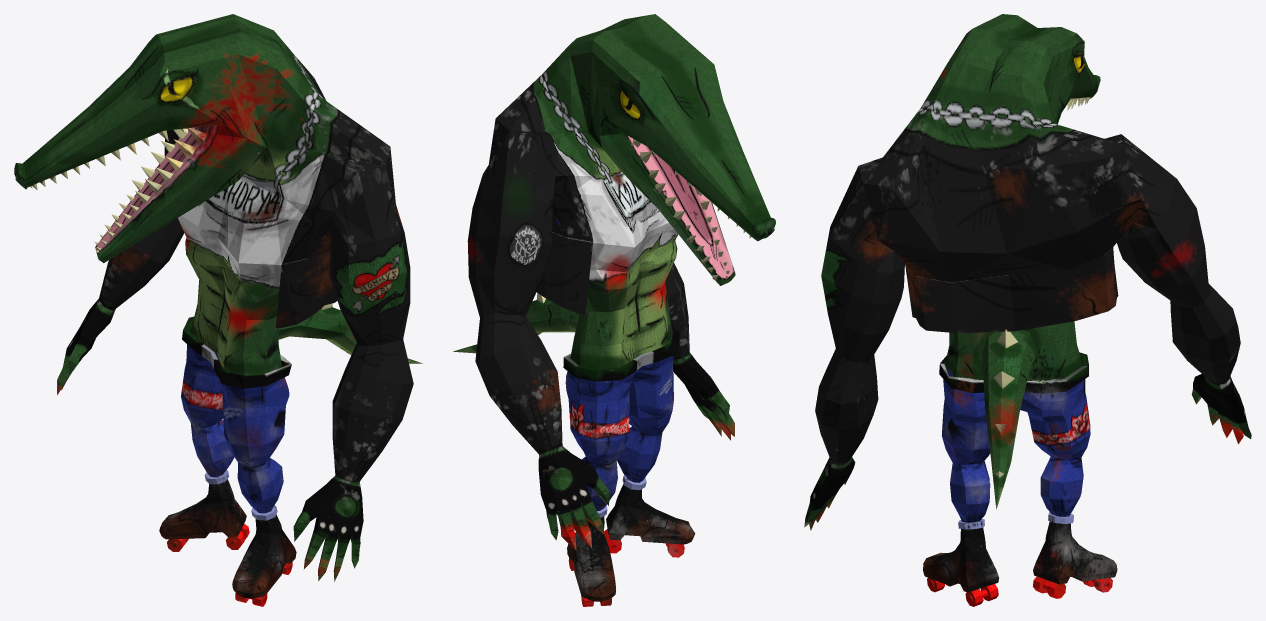
File: cocodrilaBonesSelect_000021.obj
The picture shows the model from 3 angles, left to right: view 1: azimuth 30°, elevation 25°; view 2: azimuth 150°, elevation 25°; view 3: azimuth 270°, elevation 25°; orthographic projection. The views are drawn at different scales.
Parts seen in each view (by area): view 1: Crocodile.002_Cylinder.002; view 2: Crocodile.002_Cylinder.002; view 3: Crocodile.002_Cylinder.002.
Part boxes in pixels (box(x1,y1,x2,y2)): Crocodile.002_Cylinder.002: box(14, 14, 422, 606); Crocodile.002_Cylinder.002: box(453, 14, 775, 606); Crocodile.002_Cylinder.002: box(804, 14, 1251, 606).
Bounding box in the file's own units: 4.63 × 6.67 × 4.8.
